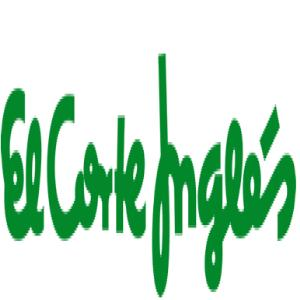corte_ingles: (3, 46, 299, 300)
